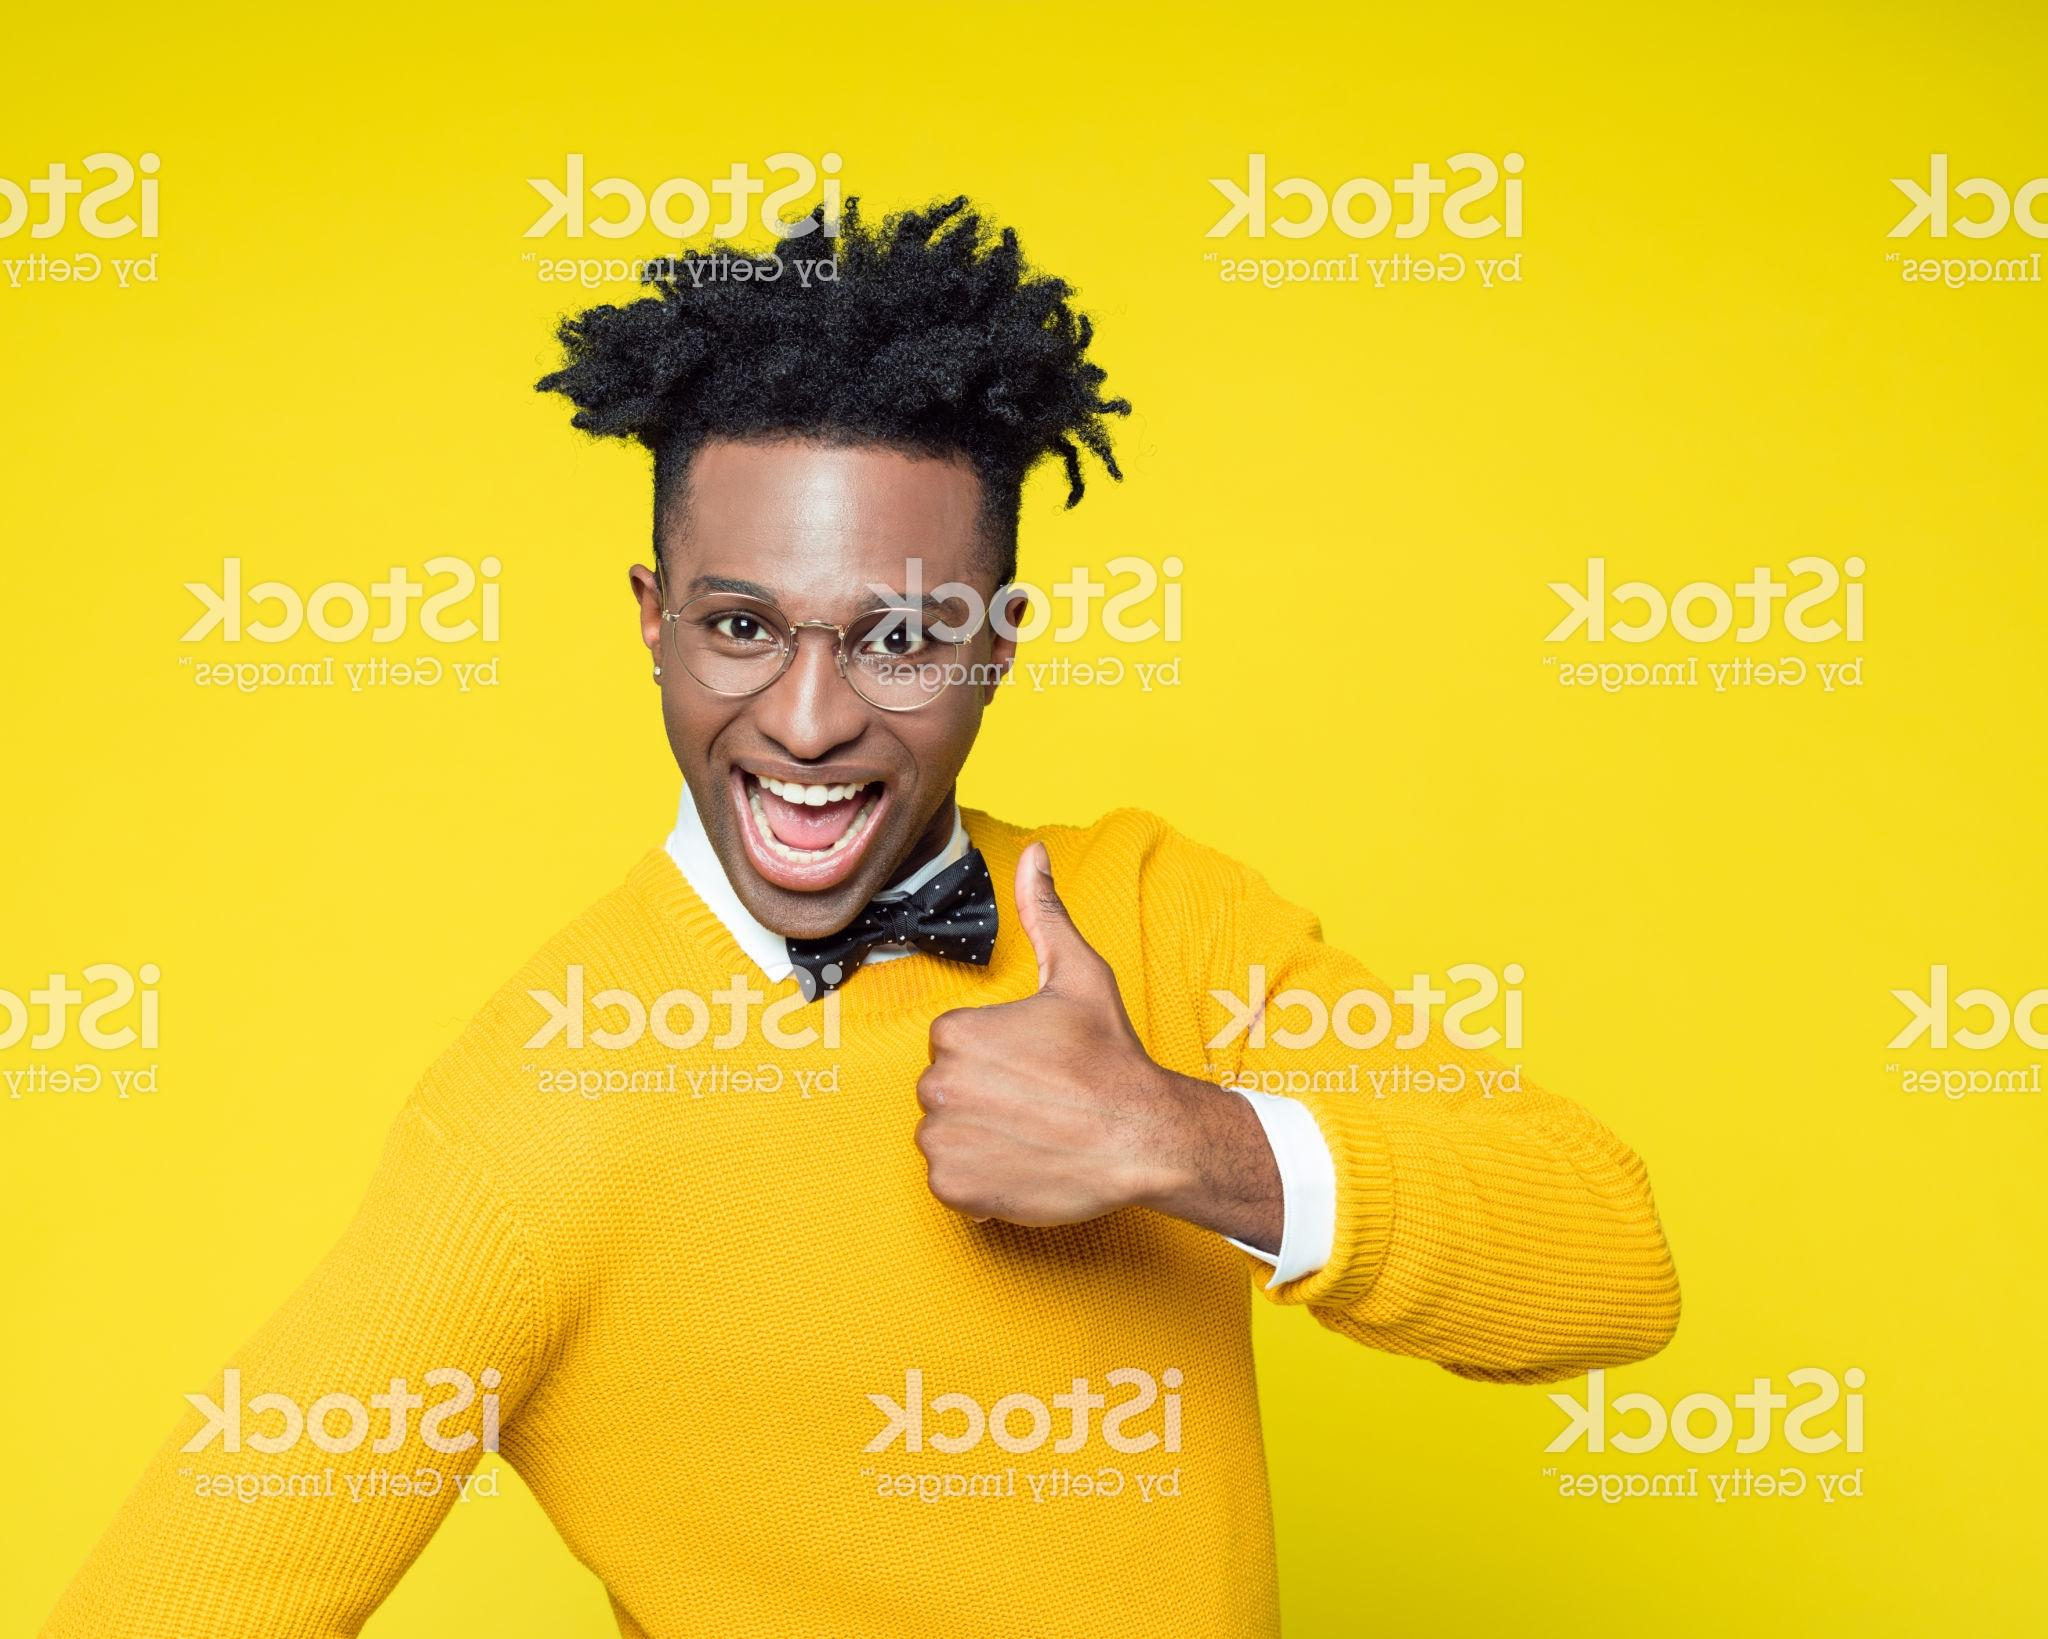thumbsup: (911, 836, 1165, 1243)
